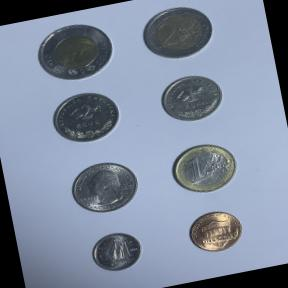1 Euro: (164, 134, 244, 203)
2 Euro: (134, 0, 222, 68)
Canda-10cent-: (84, 224, 150, 280)
Canda-2Dollar-: (27, 14, 122, 90)
Croatia-2Kune-: (44, 83, 128, 151)
US-1cent-: (180, 202, 248, 260)
US-25cent-: (63, 152, 146, 220)
